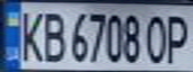0: (103, 10, 124, 64)
6: (66, 8, 90, 63)
7: (84, 9, 109, 63)
8: (121, 10, 145, 64)
B: (36, 8, 69, 63)
K: (15, 7, 45, 63)
O: (142, 11, 172, 64)
P: (163, 10, 193, 64)
